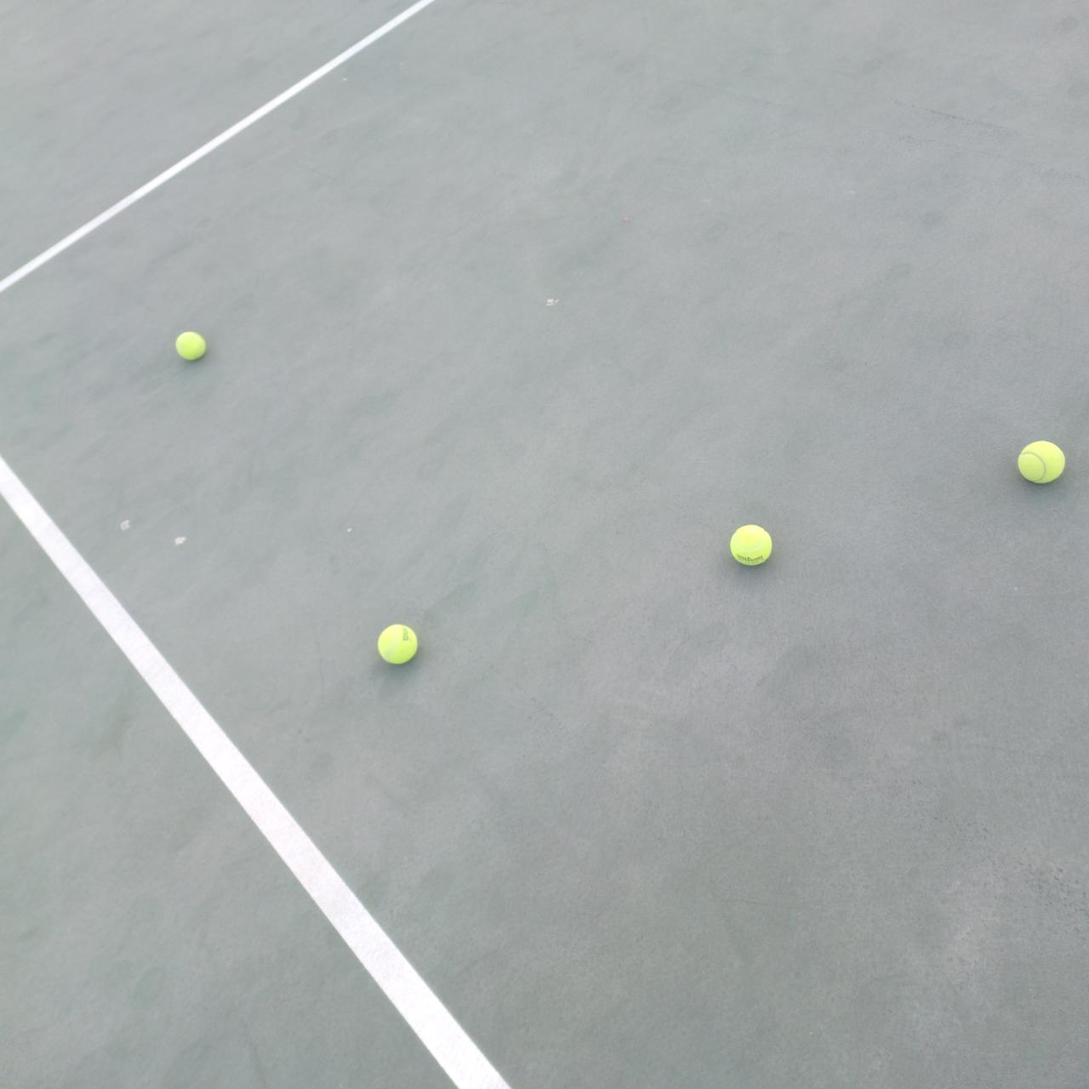tennis-ball: (1015, 437, 1066, 484), (727, 522, 773, 567), (375, 621, 419, 665), (173, 328, 207, 362)
